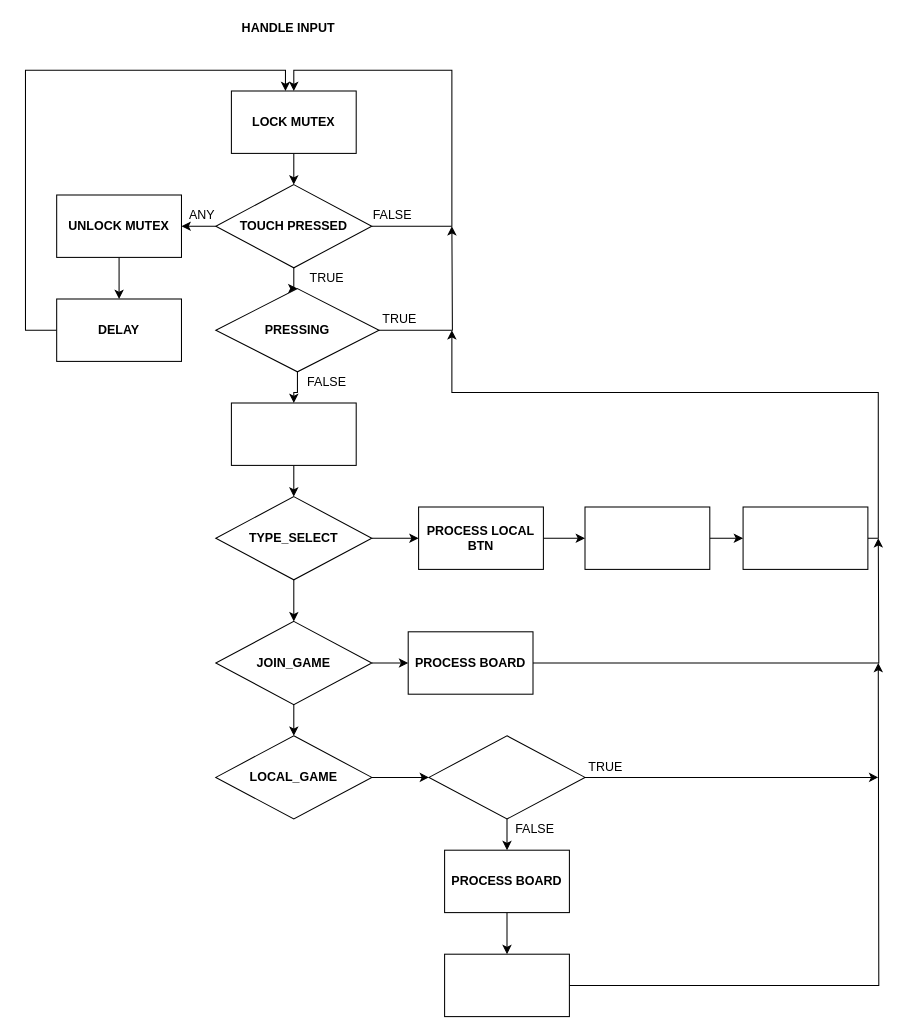
Some shapes in this 906 by 1035 pixel diagram are drawn without their labels. The centre of each missing label's shape, as x and y in pixels:
GAME_OVER: the point at 506,777
PROCESS HOST BTN: the point at 647,537
PROCESS JOIN BTN: the point at 805,537
SWITCH STATE: the point at 293,433
UPDATE GAME STATE: the point at 506,985
